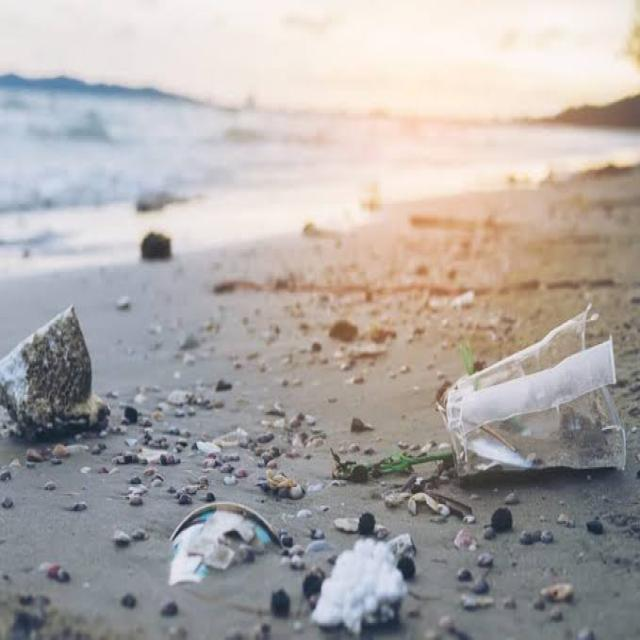plastic: (449, 310, 640, 515), (10, 320, 142, 468), (153, 467, 293, 582), (302, 544, 438, 638)
